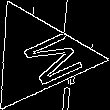M_SW: (2, 24, 76, 89)
